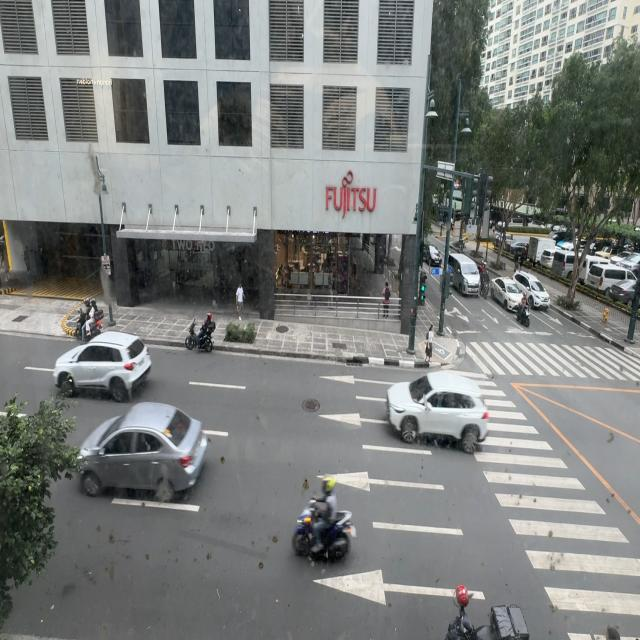pedestrain: (236, 282, 245, 318), (382, 283, 390, 317)
waiting: (425, 324, 434, 363)
